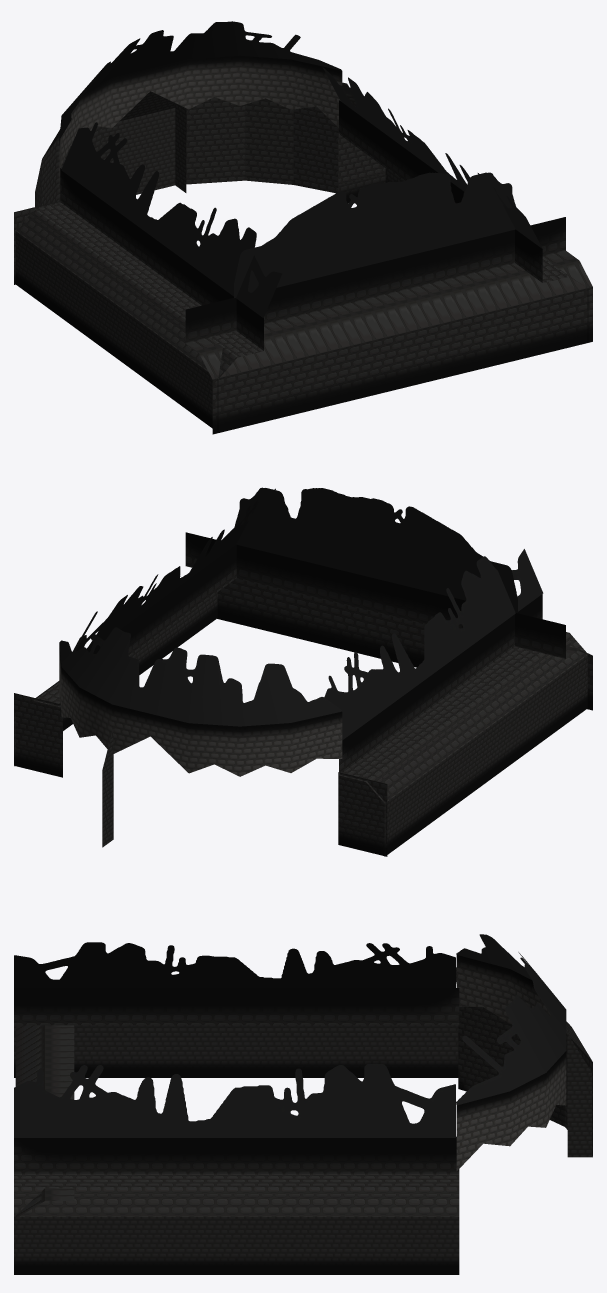
The model's file is wall.fbx.
3 renders of one model, top to bottom at view 1: azimuth 30°, elevation 25°; view 2: azimuth 150°, elevation 25°; view 3: azimuth 270°, elevation 25°, orthographic. The views are drawn at different scales.
Visible parts, largest first — view 1: pPlane16; view 2: pPlane16; view 3: pPlane16.
Part boxes in pixels (box(x1,y1,x2,y2)): pPlane16: box(14, 21, 592, 434); pPlane16: box(14, 487, 592, 856); pPlane16: box(14, 934, 592, 1274).
Size of the model in its own units: 4096 by 2035 by 4943.
Materials: 1 (1 with a texture image).
